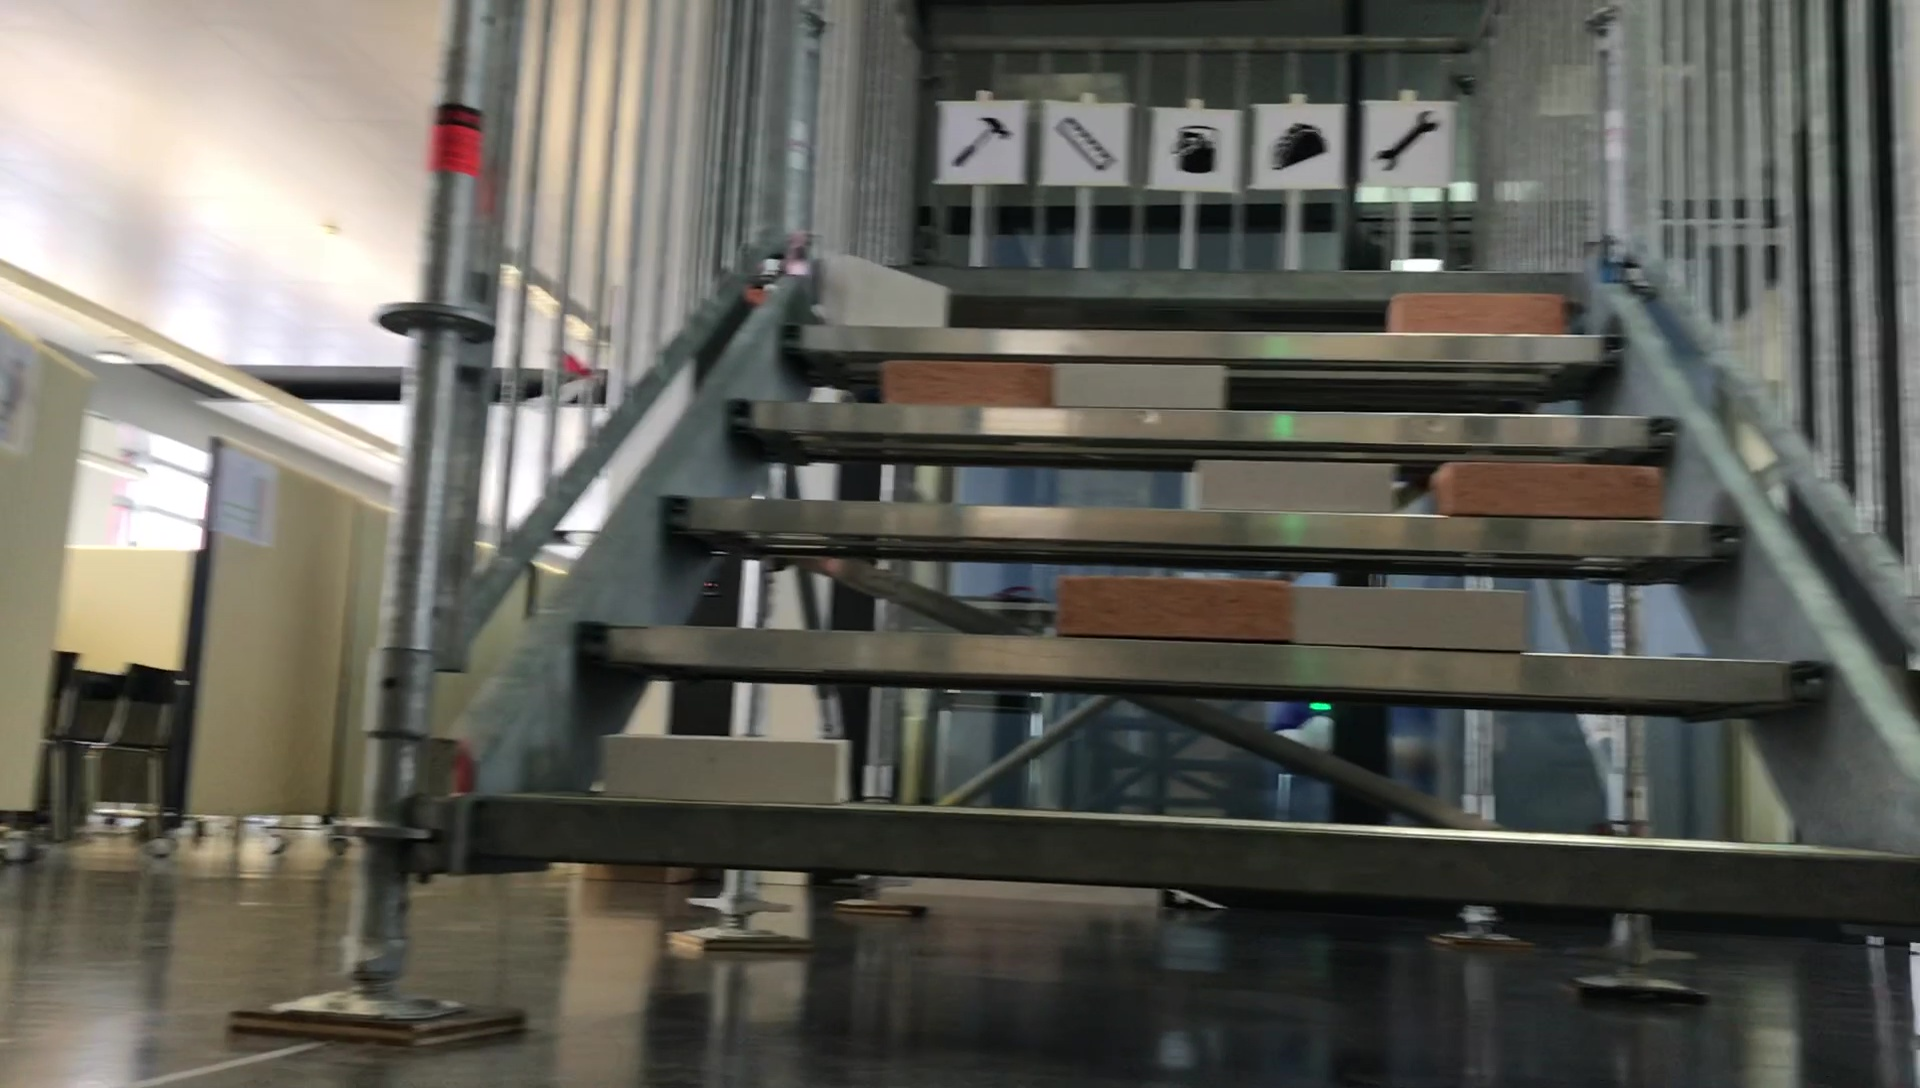brick: (595, 735, 866, 806), (1279, 586, 1538, 648), (1436, 462, 1664, 524), (1054, 582, 1273, 644), (1189, 462, 1404, 516), (804, 256, 949, 328), (1389, 289, 1582, 334), (877, 361, 1048, 411), (1050, 365, 1233, 405)
bucket: (1172, 119, 1216, 175)
edge: (578, 624, 1836, 704), (477, 816, 1887, 888), (745, 397, 1675, 440), (661, 514, 1751, 547), (777, 318, 1605, 359), (828, 270, 1569, 301)
hammer: (949, 109, 1019, 164)
ruler: (1052, 113, 1120, 173)
stairs: (345, 0, 1920, 1018)
steps: (431, 268, 1920, 895)
taco: (1273, 115, 1332, 175)
wrench: (1375, 108, 1441, 169)
